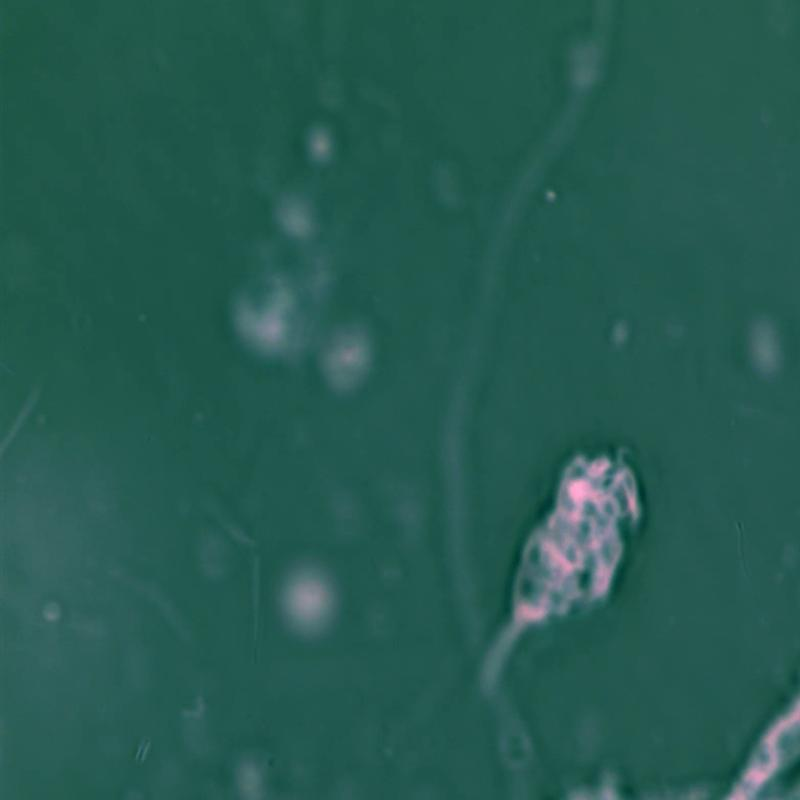depth:40: (460, 437, 664, 706)
